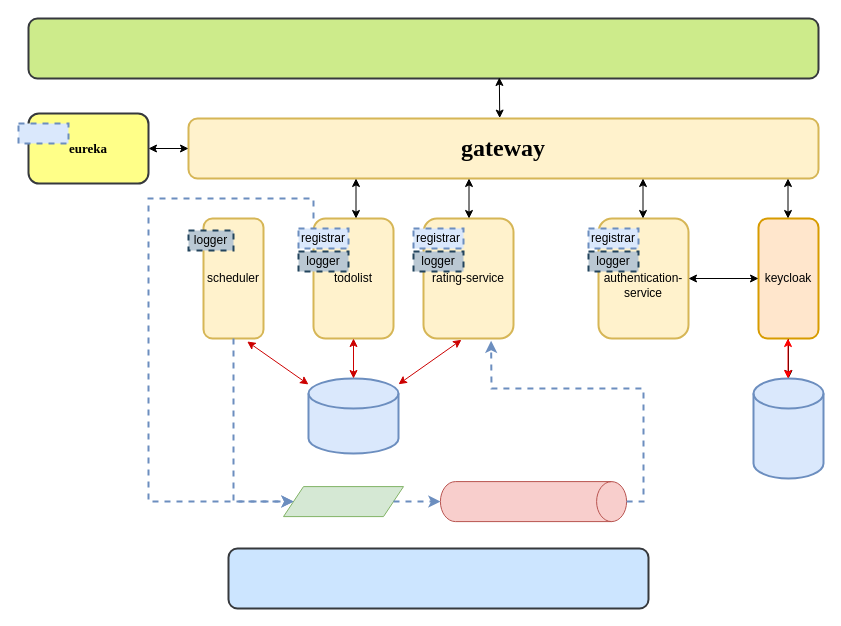
Some shapes in this 841 by 626 pixel diagram are drawn without their labels. Each missing label, with the centre of its shape:
app-bd: [353,415]
centralized-log: [438,578]
front-end: [423,48]
keycloak-bd: [788,428]
registry: [43,133]
task-queue: [533,501]
topic: [343,501]
